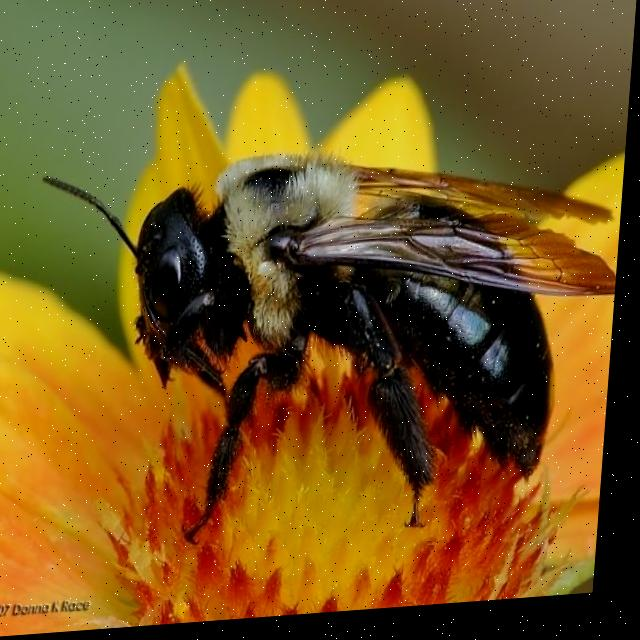Xylocopa: (12, 117, 631, 565)
